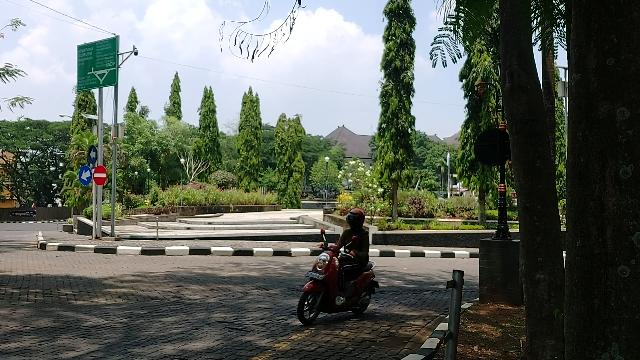helm: (347, 209, 366, 227)
motor: (298, 245, 380, 325)
